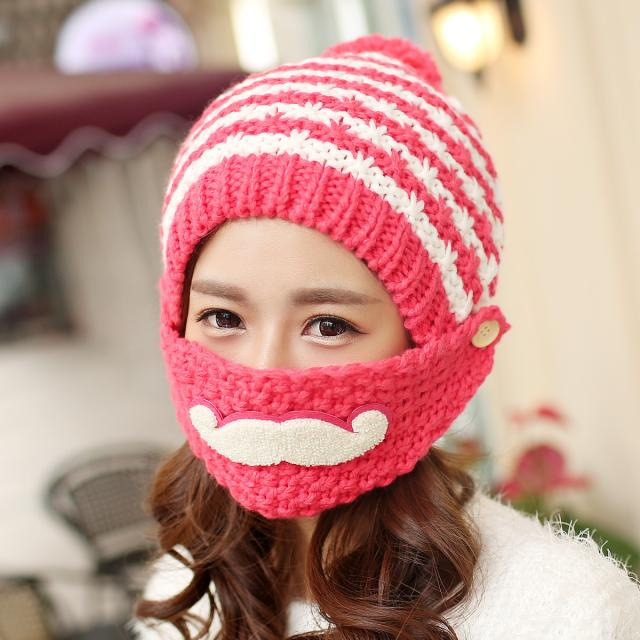mask: (174, 206, 412, 496)
